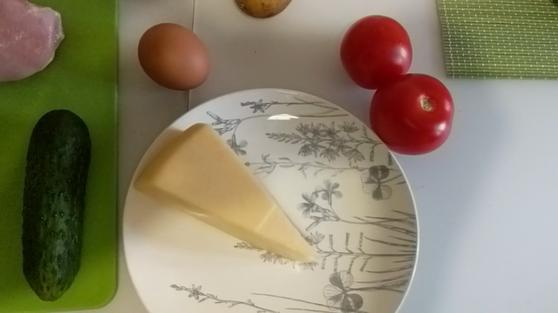cheese: (134, 122, 318, 267)
chicken_fillet: (1, 1, 64, 81)
cucumber: (24, 108, 93, 299)
egg: (139, 24, 212, 88)
tomato: (368, 71, 455, 154), (339, 15, 414, 90)
